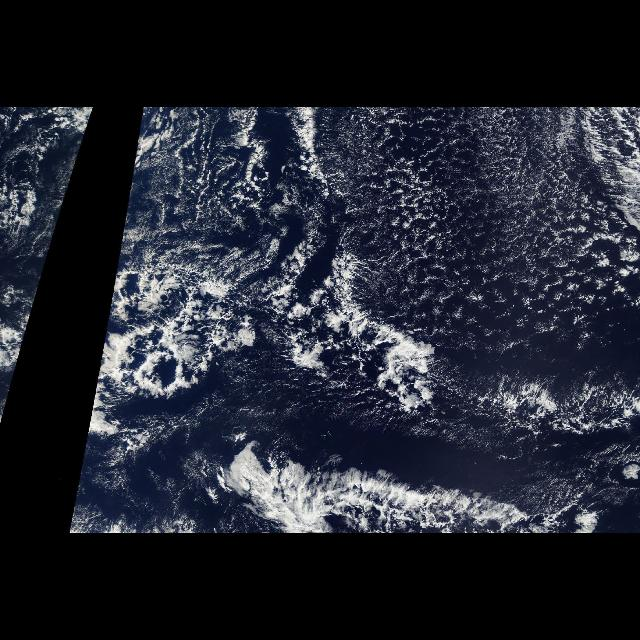Fish: (198, 351, 634, 534), (90, 249, 430, 417), (5, 248, 51, 412)
Gravel: (302, 108, 630, 374)
Sugar: (449, 118, 636, 266)
